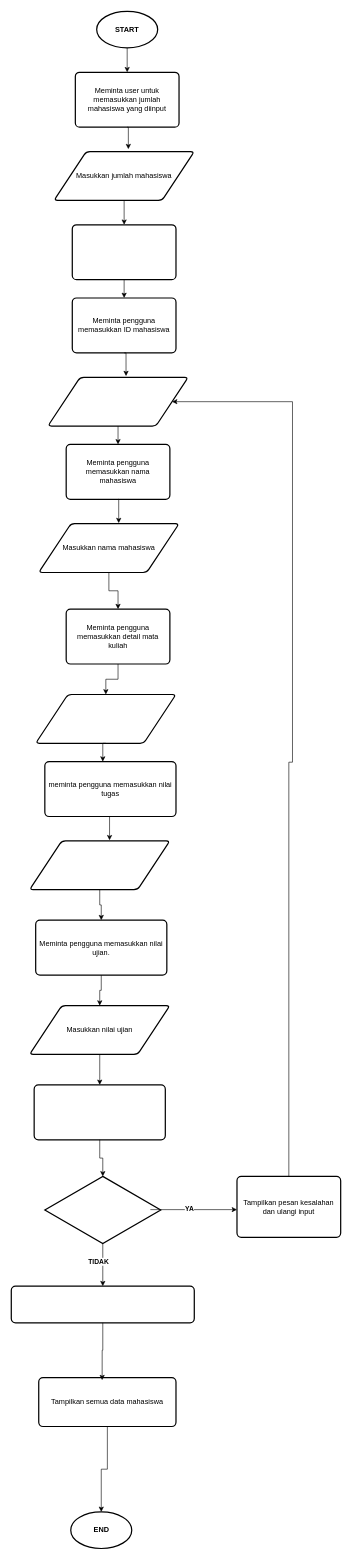
Image size: 351x1559. Some labels were removed from this diagram. The shapes that lost their labels are listed below. From the top down, each one's box as (x1, y1, x2, y2) in pixels, then its label:
(71, 224, 176, 280): Memulai proses pengumpulan data untuk setiap mahasiswa
(47, 376, 188, 426): Masukkan ID mahasiswa
(35, 694, 176, 744): Masukkan mata kuliah
(29, 840, 170, 890): Masukkan nilai tugas
(33, 1084, 166, 1140): Menghitung nilai akhir berdasarkan nilai tugas dan ujian.
(44, 1175, 161, 1244): Periksa kesalahan
(10, 1285, 195, 1323): Simpan Data mahasiswa
